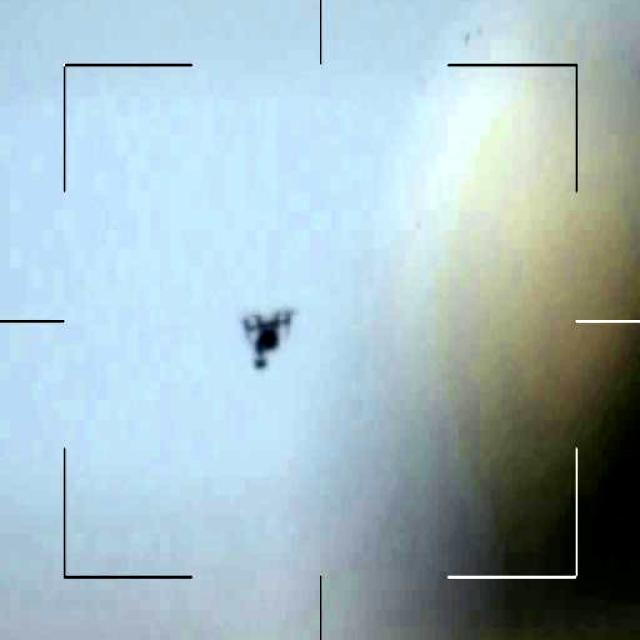bird: (234, 299, 301, 369)
